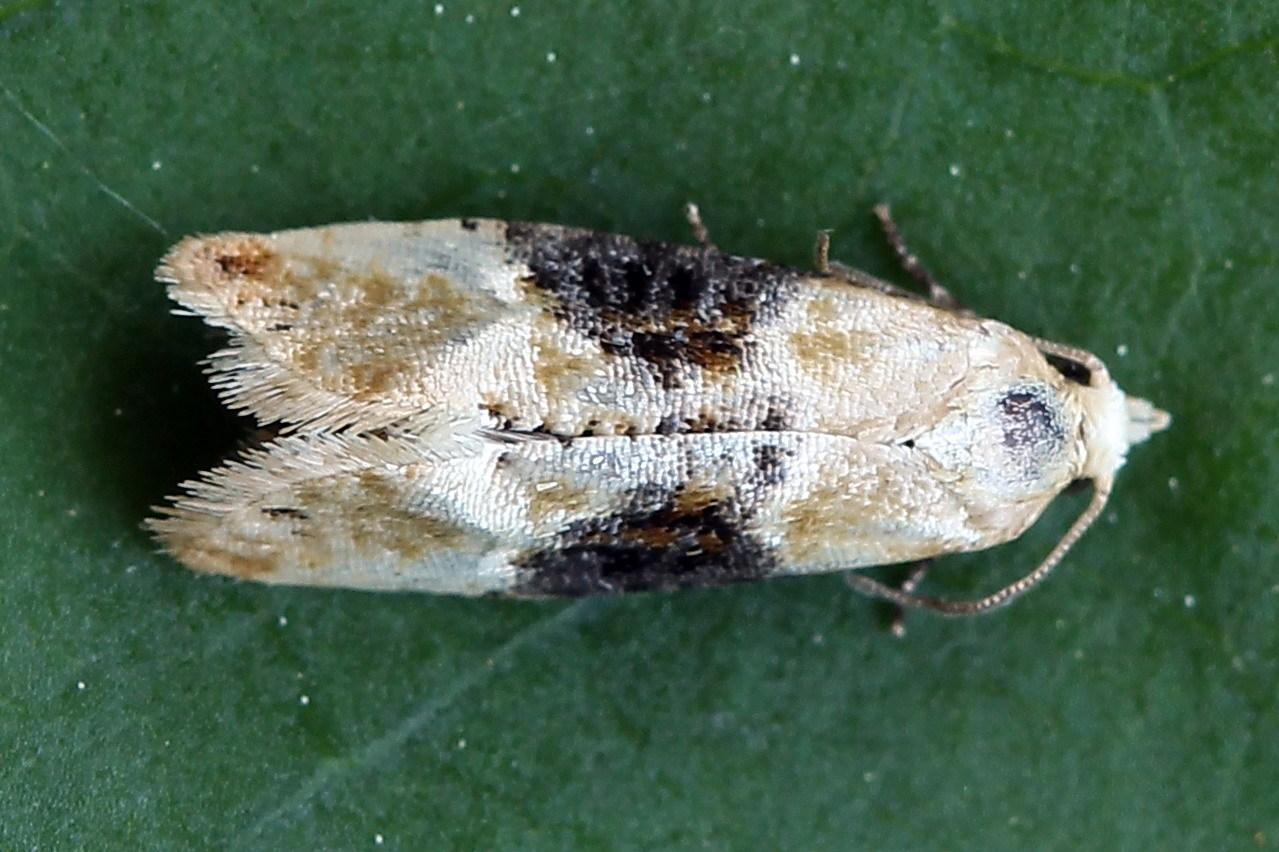Eupoecilia Ambiguella: (140, 200, 1171, 624)
